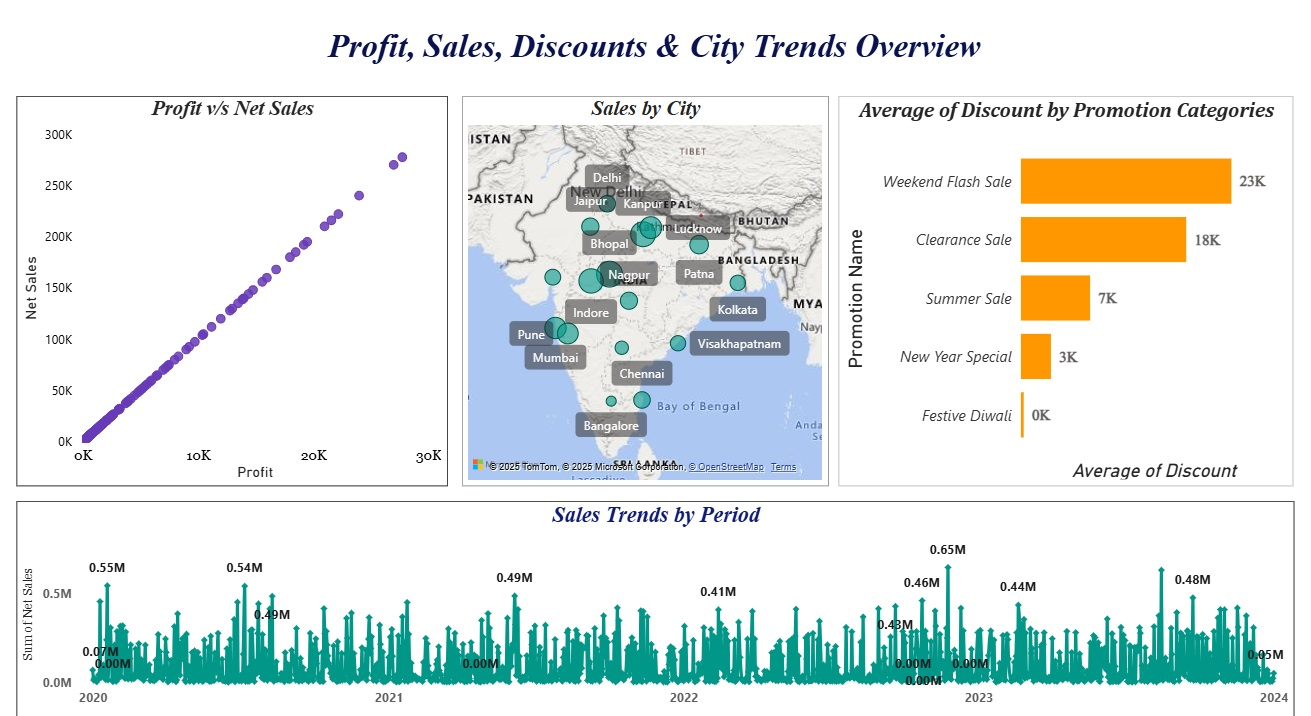

Layout of this report page (visuals, bound fields, positions):
{"tool":"powerbi","page":{"name":"Trends","canvas":[1280,720],"ordinal":3},"visuals":[{"type":"lineChart","title":" Sales Trends by Period","fields":{"Y":["Sum(Fact Table.Net Sales   )"],"Category":["Fact Table.Date (dd/mm/yyyy)"]},"box":[18.6,500,1240,210],"z":0},{"type":"scatterChart","title":"Profit v/s Net Sales   ","fields":{"X":["Fact Table.Profit"],"Y":["Fact Table.Net Sales   "]},"box":[18.6,107.1,418.6,378.6],"z":1000},{"type":"barChart","title":"Average of Discount by Promotion Categories","fields":{"Y":["Avg(Fact Table.Discount)"],"Category":["Dim Promotion.Promotion Name"]},"box":[817.1,107.1,441.4,378.6],"z":2000},{"type":"map","title":"Sales by City","fields":{"Category":["Dim Customers.City"],"Size":["Sum(Fact Table.Net Sales   )"]},"box":[451.4,107.1,355.7,378.6],"z":3000},{"type":"textbox","box":[18.6,34.3,1238.6,57.1],"z":4000}]}

Visuals, with their boxes in screenshot pixels (x1, y1, x2, y2), scaled from the page's 1280x720 canvas onto the 1311x716 screenshot:
" Sales Trends by Period" lineChart: [19, 497, 1289, 706]
"Profit v/s Net Sales   " scatterChart: [19, 107, 448, 483]
"Average of Discount by Promotion Categories" barChart: [837, 107, 1289, 483]
"Sales by City" map: [462, 107, 827, 483]
textbox: [19, 34, 1288, 91]
